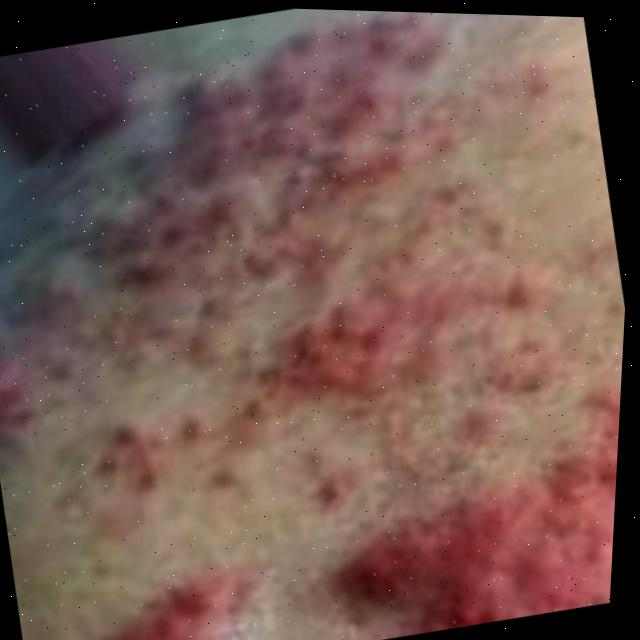Shingles: (0, 0, 556, 509), (346, 443, 618, 640), (106, 581, 251, 640)
